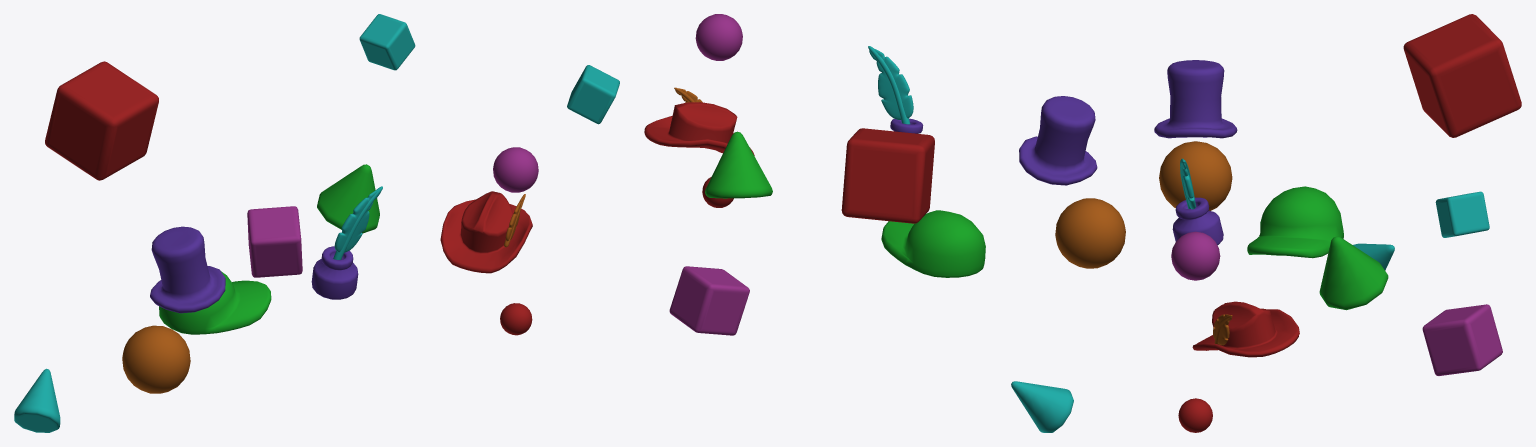
The model's file is demo_shapes.glb.
The picture shows the model from 3 angles, left to right: view 1: azimuth 30°, elevation 25°; view 2: azimuth 150°, elevation 25°; view 3: azimuth 270°, elevation 25°; orthographic projection. The views are drawn at different scales.
Parts seen in each view (by area): view 1: .cube .red, #feather-cap .hat .red, #tophat .hat .purple, .ball .orange, .cube .pink, #baseball-cap .hat .green, .cone .green, .cube .blue, .cone .blue, #inkwell .purple, .ball .pink, .feather .blue (+1 smaller); view 2: .cube .red, #baseball-cap .hat .green, #tophat .hat .purple, .cube .pink, .ball .orange, #feather-cap .hat .red, .cone .green, .cone .blue, .cube .blue, .feather .blue, .ball .pink; view 3: .cube .red, #baseball-cap .hat .green, #tophat .hat .purple, .cube .pink, #feather-cap .hat .red, .cone .green, .ball .orange, .cube .blue, .ball .pink, #inkwell .purple, .ball .red, .cone .blue (+2 smaller).
Boxes of the visible parts, x1,y1,x2,y2 form: .cube .red: [45, 61, 158, 180]; #feather-cap .hat .red: [440, 191, 532, 273]; #tophat .hat .purple: [150, 226, 225, 313]; .ball .orange: [122, 325, 190, 393]; .cube .pink: [247, 206, 302, 277]; #baseball-cap .hat .green: [159, 271, 271, 334]; .cone .green: [317, 164, 379, 233]; .cube .blue: [359, 14, 415, 70]; .cone .blue: [14, 368, 60, 432]; #inkwell .purple: [311, 246, 358, 299]; .ball .pink: [493, 147, 538, 192]; .feather .blue: [333, 186, 382, 259]; .cube .red: [841, 128, 934, 223]; #baseball-cap .hat .green: [881, 210, 985, 277]; #tophat .hat .purple: [1019, 96, 1097, 185]; .cube .pink: [669, 266, 749, 335]; .ball .orange: [1055, 198, 1125, 268]; #feather-cap .hat .red: [644, 102, 754, 155]; .cone .green: [705, 131, 772, 198]; .cone .blue: [1011, 381, 1073, 432]; .cube .blue: [567, 65, 619, 124]; .feather .blue: [868, 46, 913, 124]; .ball .pink: [695, 14, 742, 60]; .cube .red: [1403, 14, 1521, 137]; #baseball-cap .hat .green: [1247, 186, 1343, 258]; #tophat .hat .purple: [1154, 60, 1237, 138]; .cube .pink: [1422, 304, 1502, 375]; #feather-cap .hat .red: [1192, 301, 1299, 357]; .cone .green: [1319, 236, 1388, 310]; .ball .orange: [1159, 141, 1232, 210]; .cube .blue: [1435, 191, 1489, 237]; .ball .pink: [1171, 231, 1220, 280]; #inkwell .purple: [1172, 197, 1223, 245]; .ball .red: [1178, 398, 1212, 432]; .cone .blue: [1353, 243, 1394, 270].
Bounding box in the file's own units: 2.4 × 1.48 × 1.56.
